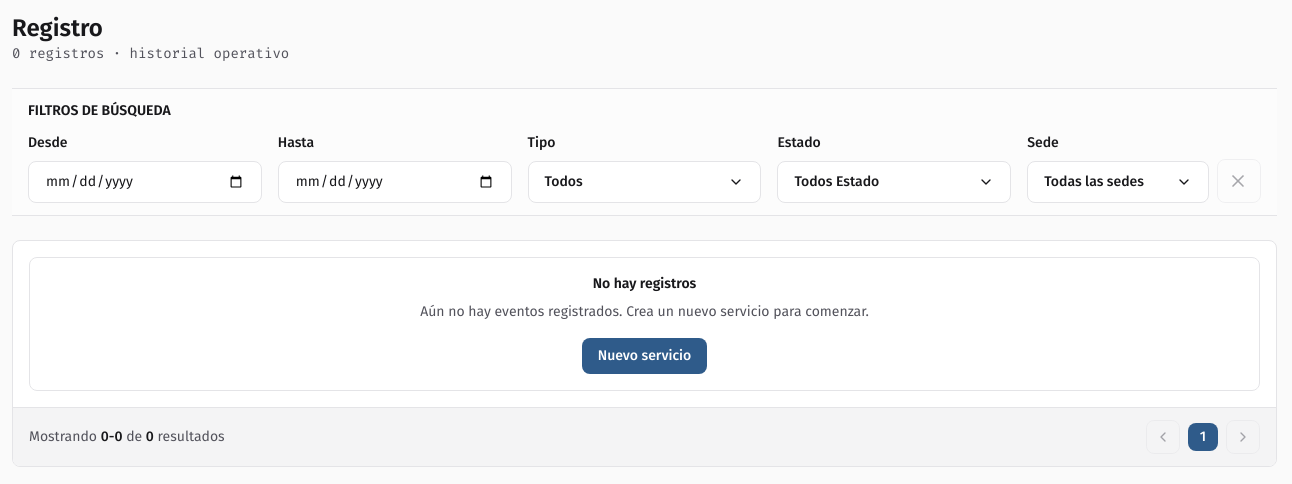
Test case: Registro filtered-empty only clears filters and does not navigate › rendered filtered-empty click clears filters and does not push or open create
Type "2025-01-01" into the date field labelled "Desde". click: (145, 182)
box: [28,161,262,203]
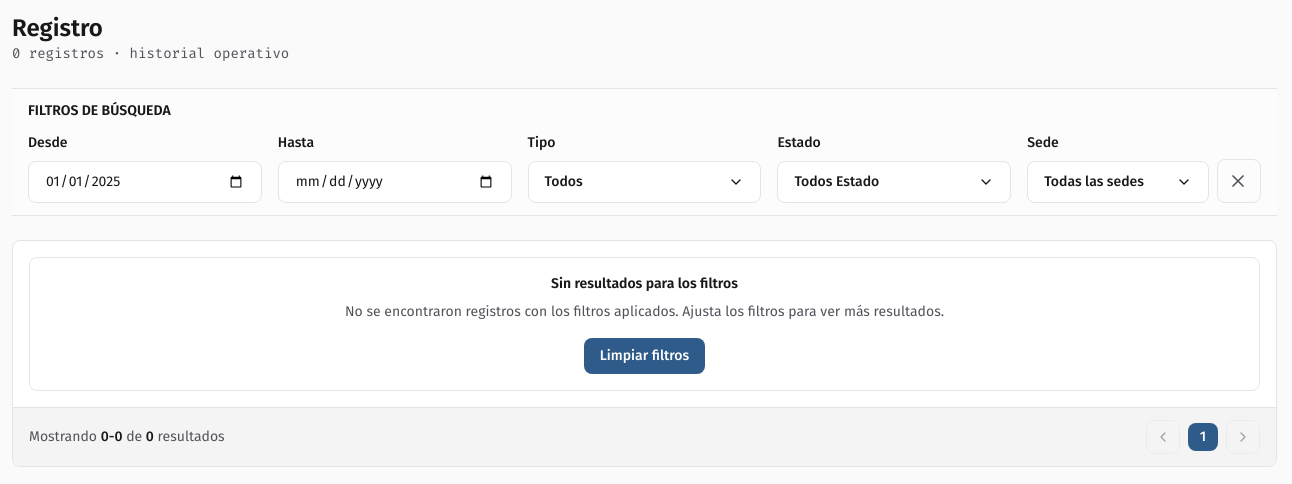
Expected: the heading "Sin resultados para los filtros" is shown, [551,275,738,292]
Click the button "Limpiar filtros". click: (644, 356)
box: [584,338,705,374]
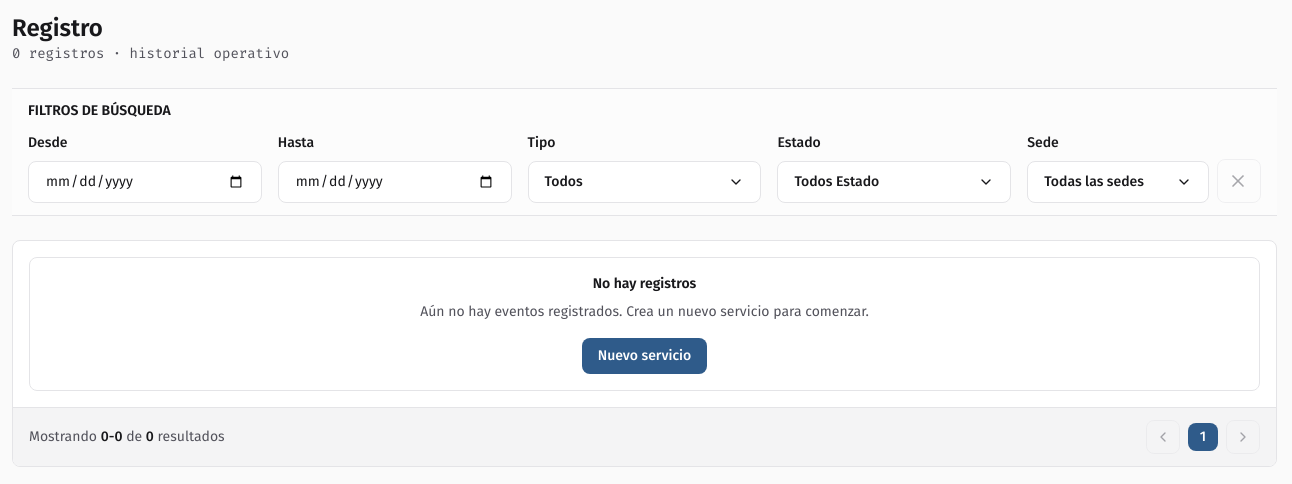
Expected: the date field labelled "Desde" is empty, [28,161,262,203]
Expected: the heading "No hay registros" is shown, [593,275,696,292]
Expected: the button "Nuevo servicio" is shown, [582,338,707,374]
